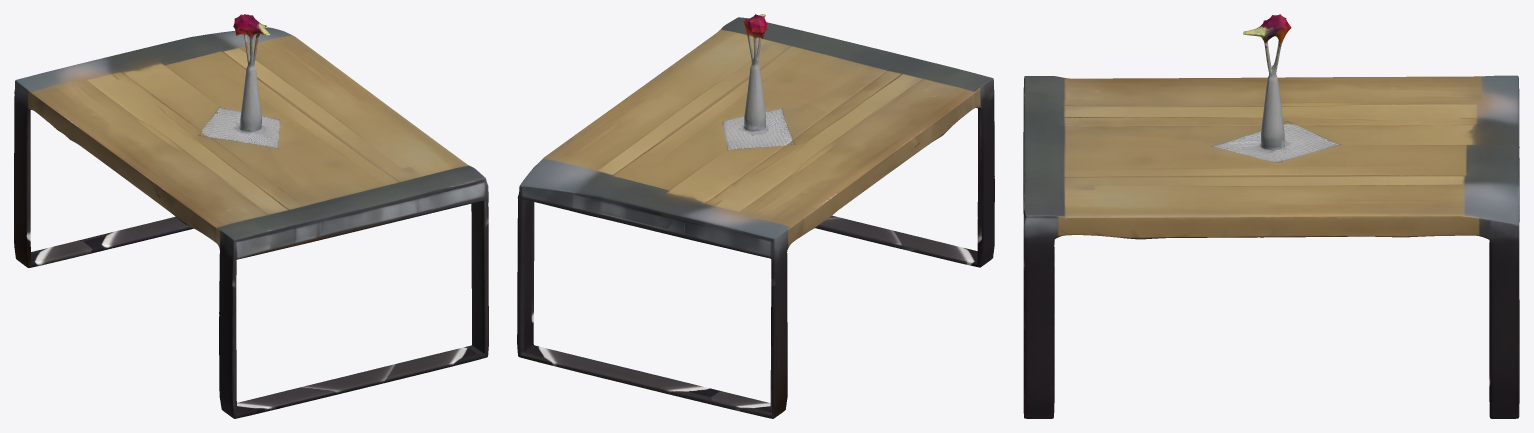
File: mesa-ratona.glb
The picture shows the model from 3 angles, left to right: view 1: azimuth 30°, elevation 25°; view 2: azimuth 150°, elevation 25°; view 3: azimuth 270°, elevation 25°; orthographic projection. The views are drawn at different scales.
Parts seen in each view (by area): view 1: model; view 2: model; view 3: model.
Part boxes in pixels (x1,y1,x2,y2): model: (14,14,488,418); model: (517,14,994,418); model: (1023,14,1519,418).
Bounding box in the file's own units: 1.29 × 1.41 × 1.9.
1 material, 1 textured.
